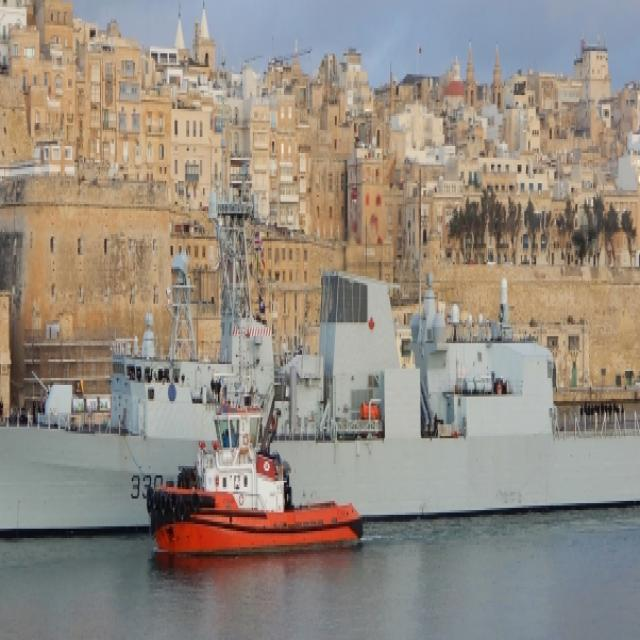Fragata: (1, 147, 640, 548)
